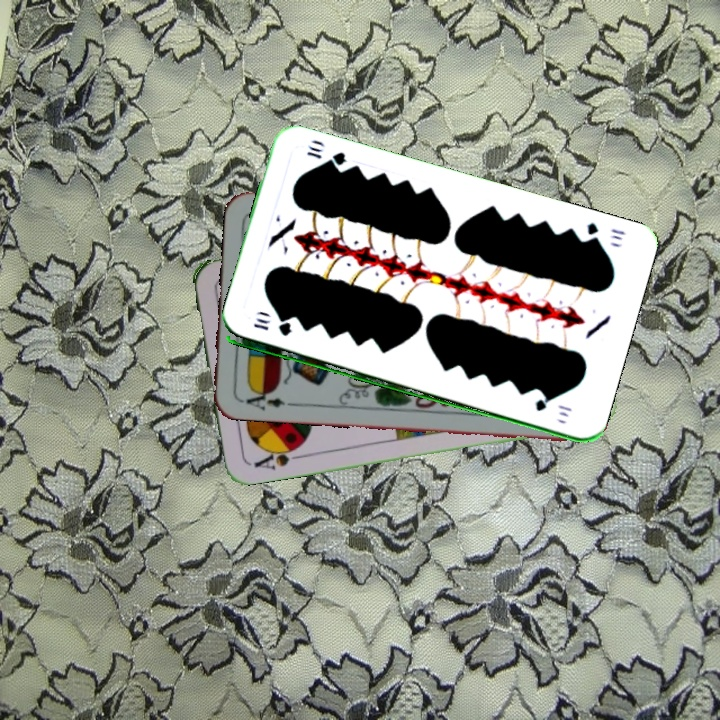EA: (242, 385, 295, 413)
G10: (581, 218, 628, 247), (249, 314, 294, 339)
SA: (250, 441, 306, 473)
